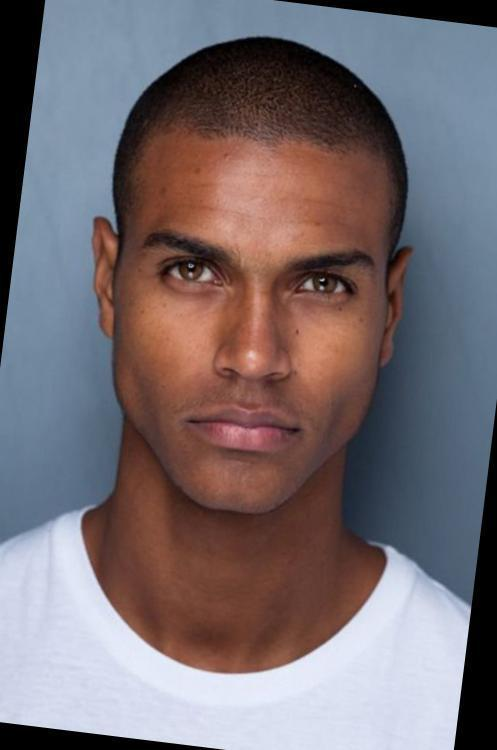Sober: (129, 140, 375, 495)
